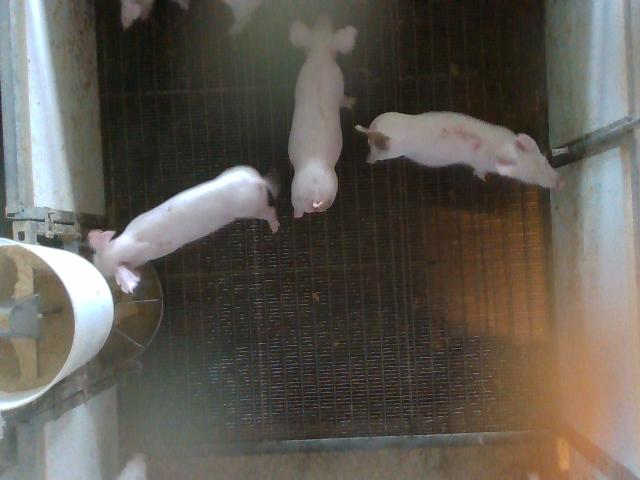pig-5: (356, 111, 562, 189)
